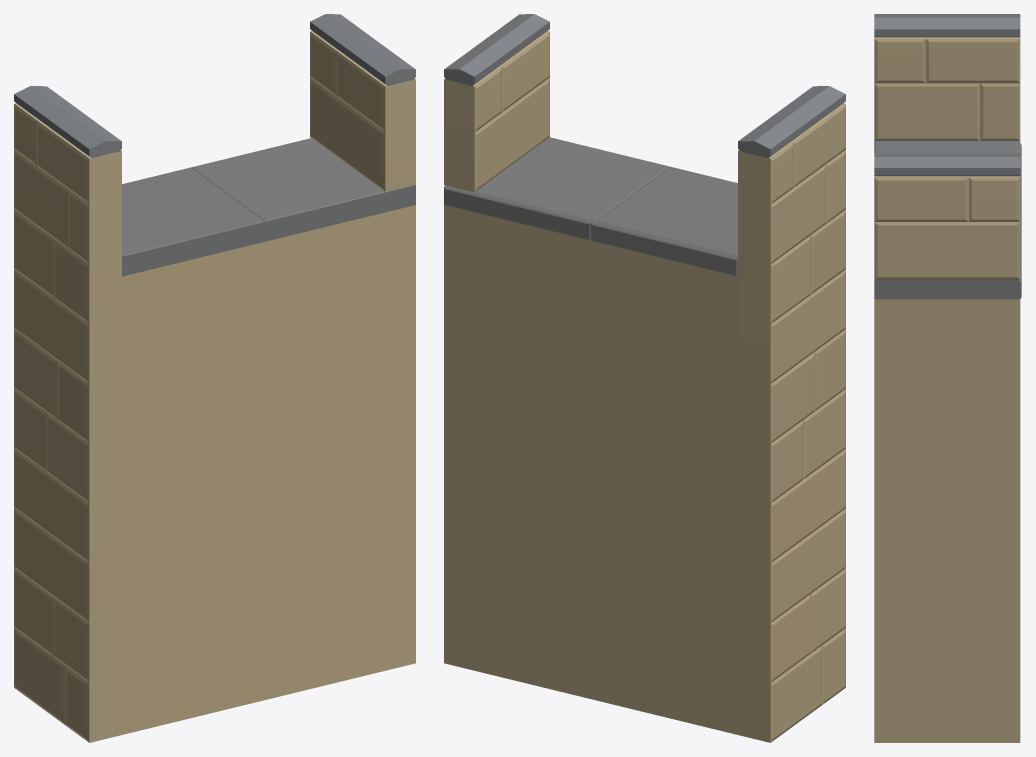
The picture shows the model from 3 angles, left to right: view 1: azimuth 30°, elevation 25°; view 2: azimuth 150°, elevation 25°; view 3: azimuth 270°, elevation 25°; orthographic projection. The views are drawn at different scales.
Parts seen in each view (by area): view 1: Mesh_Limestone, Mesh_Granite; view 2: Mesh_Limestone, Mesh_Granite; view 3: Mesh_Limestone, Mesh_Granite.
Boxes of the visible parts, box(x1,y1,x2,y2) form: Mesh_Limestone: box(14, 31, 415, 742); Mesh_Granite: box(14, 14, 415, 276); Mesh_Limestone: box(444, 31, 845, 742); Mesh_Granite: box(444, 14, 845, 276); Mesh_Limestone: box(874, 37, 1020, 742); Mesh_Granite: box(874, 14, 1021, 299).
Size of the model in its own units: 3.02 by 5.25 by 1.21.
